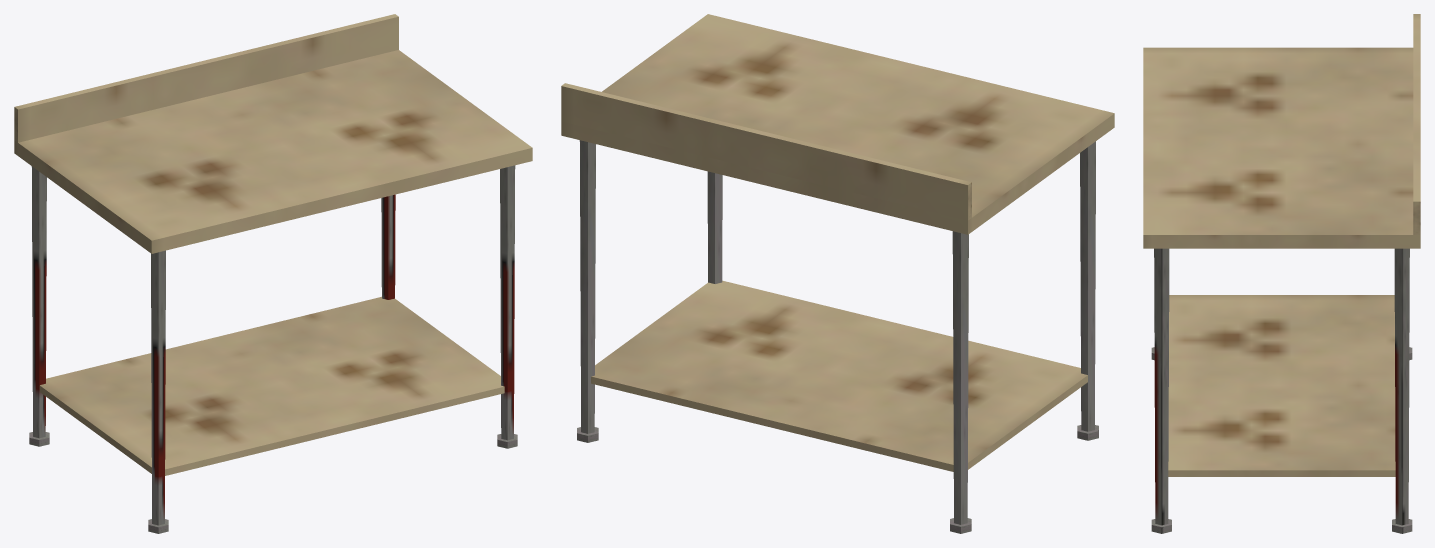
Rendered from prep_table.fbx.
The picture shows the model from 3 angles, left to right: view 1: azimuth 30°, elevation 25°; view 2: azimuth 150°, elevation 25°; view 3: azimuth 270°, elevation 25°; orthographic projection. The views are drawn at different scales.
Visible parts, largest first — view 1: prep_table; view 2: prep_table; view 3: prep_table.
Part boxes in pixels (x1=…): prep_table: x1=14, y1=14, x2=532, y2=533; prep_table: x1=561, y1=14, x2=1114, y2=533; prep_table: x1=1143, y1=14, x2=1420, y2=533.
Bounding box in the file's own units: 1.2 × 1 × 0.75.
